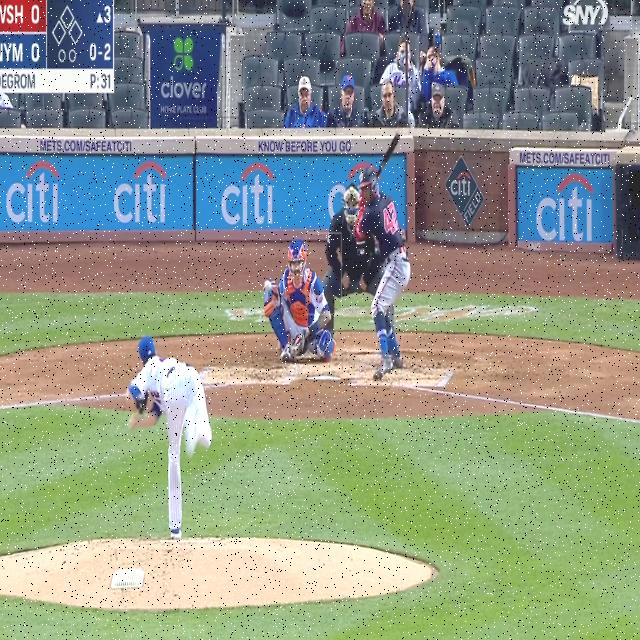baseball: (264, 280, 272, 290)
